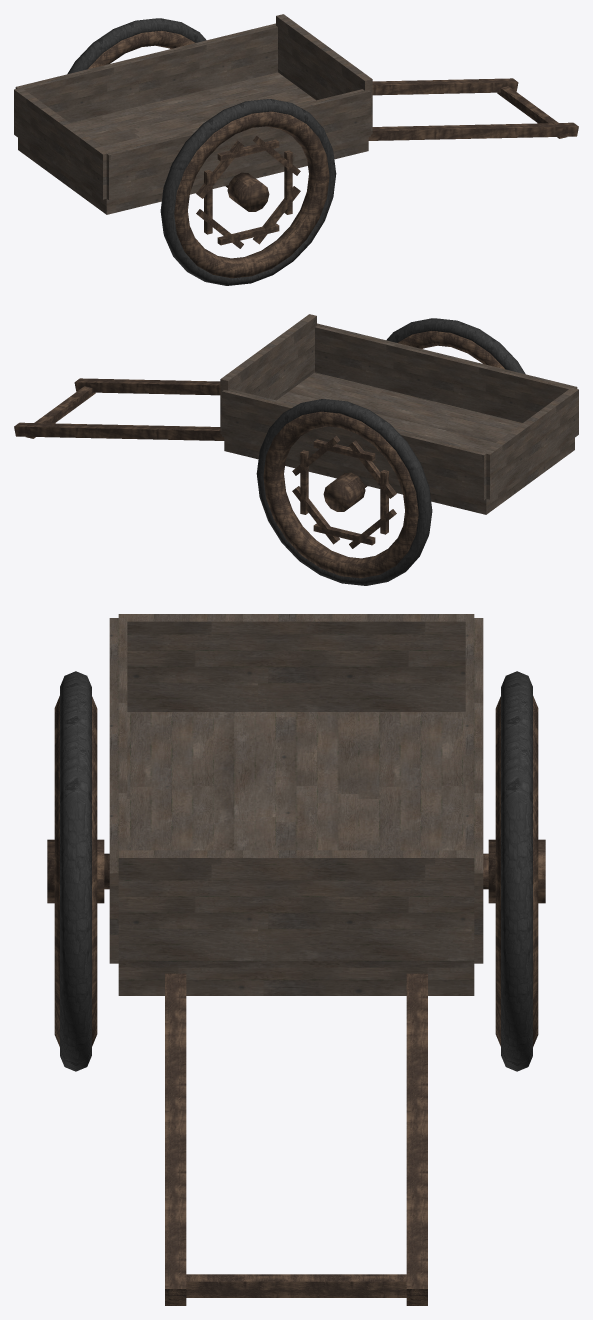
Rendered from prop_cart_v2.glb.
3 views of the same model, one above another, from view 1: azimuth 30°, elevation 25°; view 2: azimuth 150°, elevation 25°; view 3: azimuth 270°, elevation 25° (orthographic). The views are drawn at different scales.
Parts seen in each view (by area): view 1: prop_cart_v2; view 2: prop_cart_v2; view 3: prop_cart_v2.
Part boxes in pixels (x1,y1,x2,y2): prop_cart_v2: [14, 14, 578, 285]; prop_cart_v2: [14, 314, 578, 585]; prop_cart_v2: [47, 614, 545, 1305].
Size of the model in its own units: 3.16 by 1.13 by 1.4.
3 materials, 3 textured.
